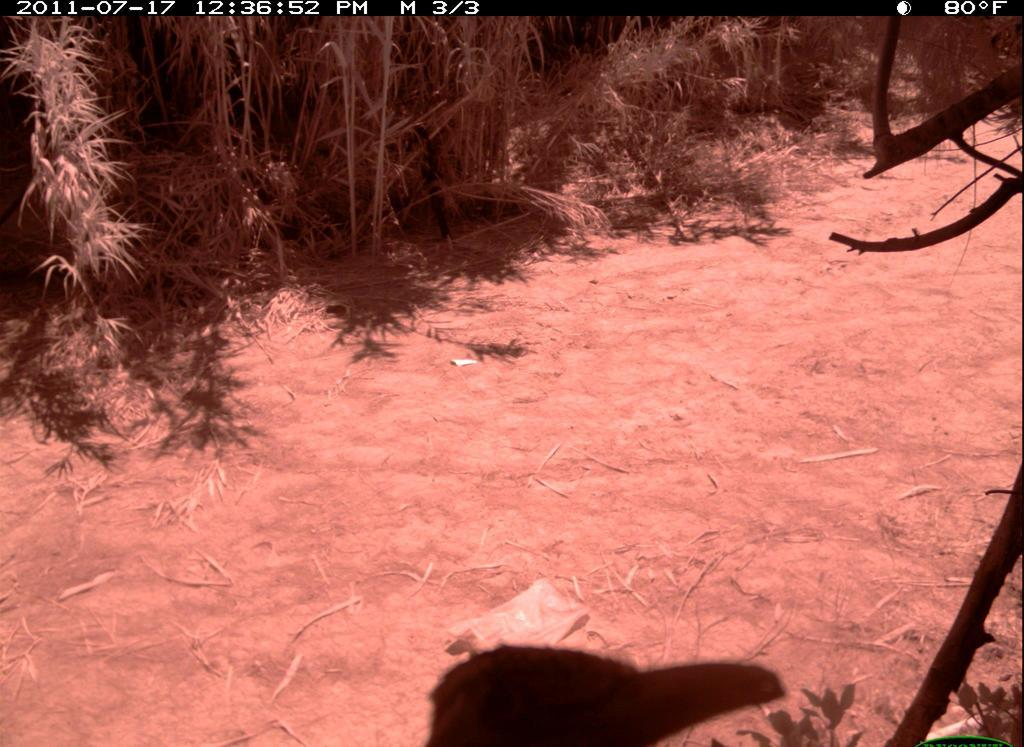bird: (419, 629, 799, 747)
